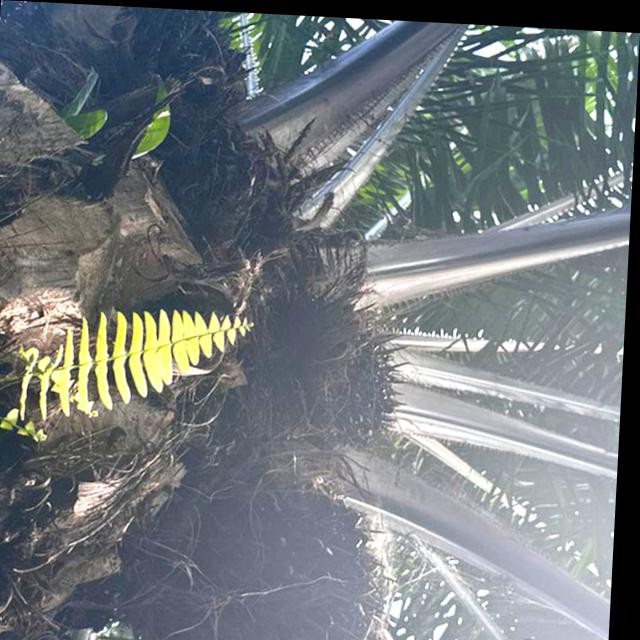unripe: (112, 457, 414, 640), (266, 278, 429, 460)
